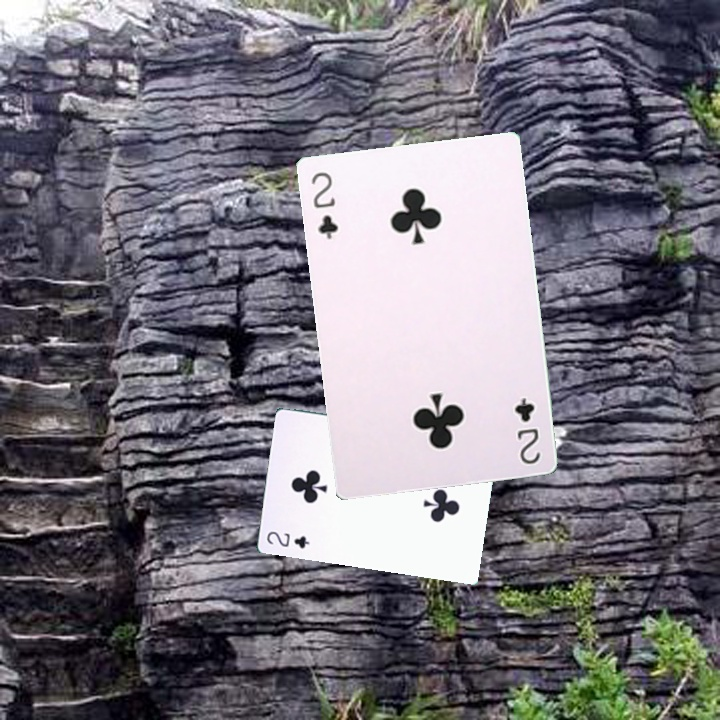2c: (307, 168, 341, 242), (510, 393, 543, 467), (263, 527, 313, 551)
